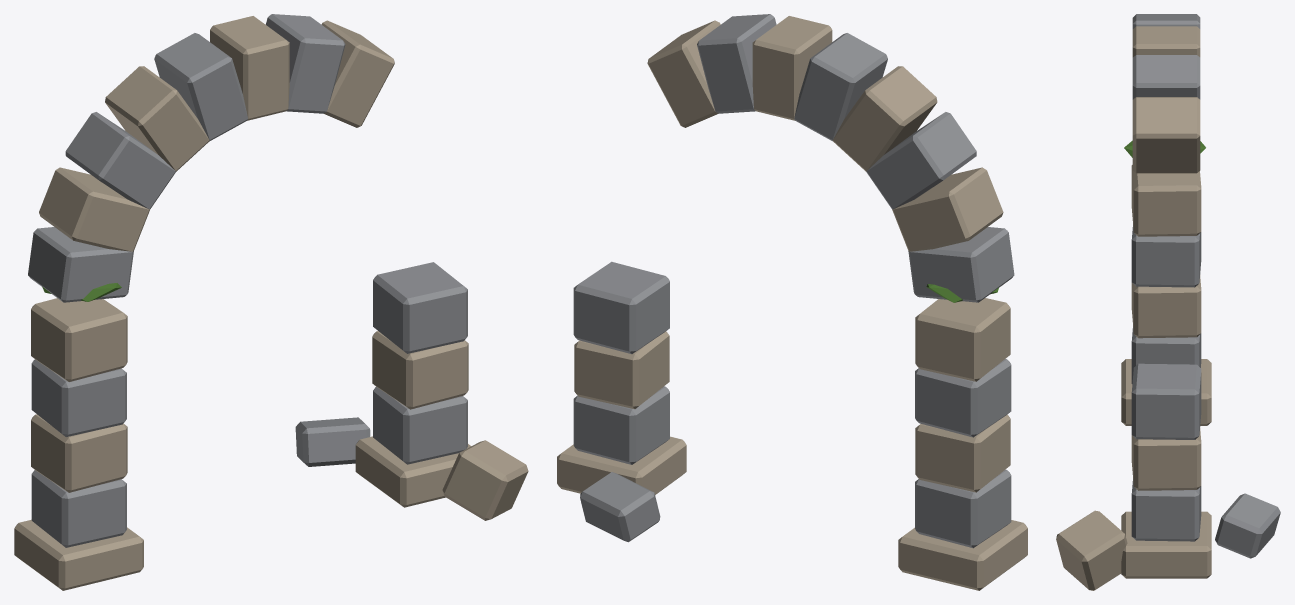
File: arch_ruin.glb
3 views of the same model, side by side, from view 1: azimuth 30°, elevation 25°; view 2: azimuth 150°, elevation 25°; view 3: azimuth 270°, elevation 25° (orthographic). The views are drawn at different scales.
Visible parts, largest first — view 1: arch_ruin; view 2: arch_ruin; view 3: arch_ruin.
Part boxes in pixels (x1,y1,x2,y2): arch_ruin: [14, 14, 528, 590]; arch_ruin: [557, 14, 1027, 590]; arch_ruin: [1056, 14, 1280, 590].
Bounding box in the file's own units: 5.24 × 5.61 × 2.49.
